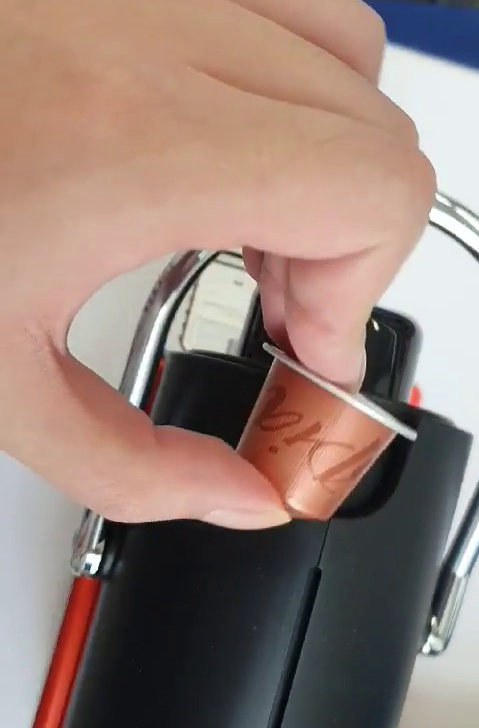capsule_6: (233, 341, 422, 517)
